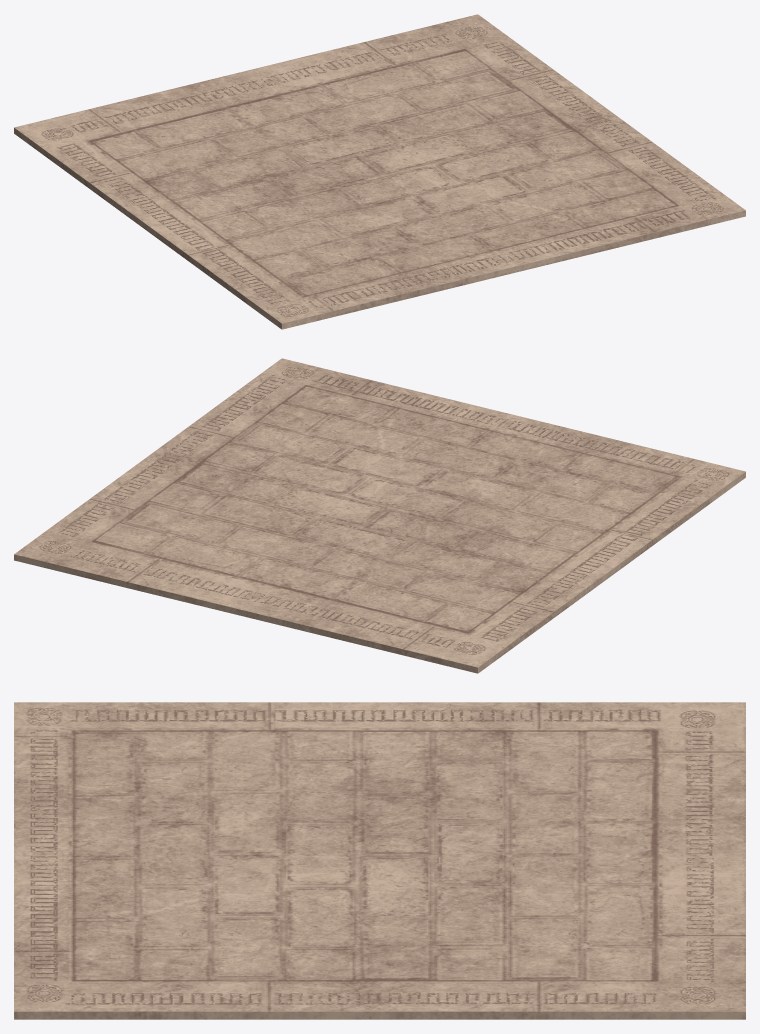
The model's file is Wall.fbx.
The picture shows the model from 3 angles, top to bottom: view 1: azimuth 30°, elevation 25°; view 2: azimuth 150°, elevation 25°; view 3: azimuth 270°, elevation 25°; orthographic projection. The views are drawn at different scales.
Visible parts, largest first — view 1: floor-tiles-low-03b; view 2: floor-tiles-low-03b; view 3: floor-tiles-low-03b.
Boxes of the visible parts, left/top/right/bottom form: floor-tiles-low-03b: left=14, top=14, right=745, bottom=329; floor-tiles-low-03b: left=14, top=358, right=745, bottom=673; floor-tiles-low-03b: left=14, top=702, right=745, bottom=1019.
Size of the model in its own units: 400 by 5 by 400.
